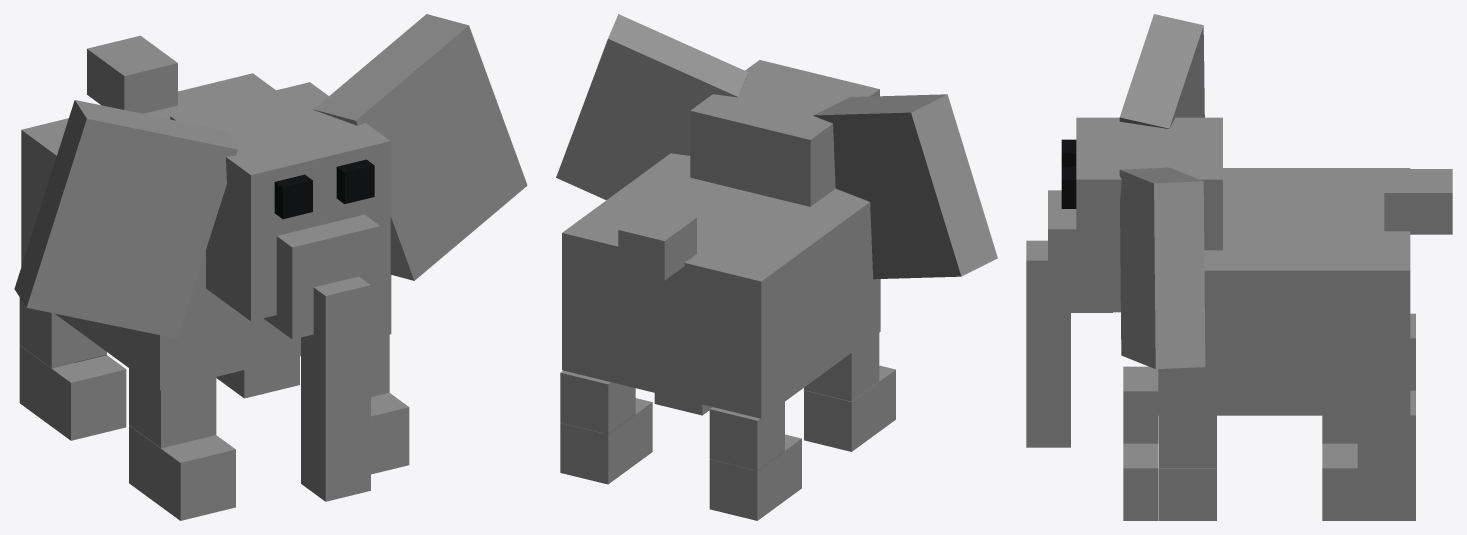
3 views of the same model, side by side, from view 1: azimuth 30°, elevation 25°; view 2: azimuth 150°, elevation 25°; view 3: azimuth 270°, elevation 25° (orthographic). The views are drawn at different scales.
Visible parts, largest first — view 1: Elephant; view 2: Elephant; view 3: Elephant.
Part boxes in pixels (<box>): Elephant: <box>14,14,527,520</box>; Elephant: <box>556,14,997,520</box>; Elephant: <box>1026,14,1452,520</box>.
Size of the model in its own units: 2.09 by 1.63 by 1.7.
1 material, 1 textured.
